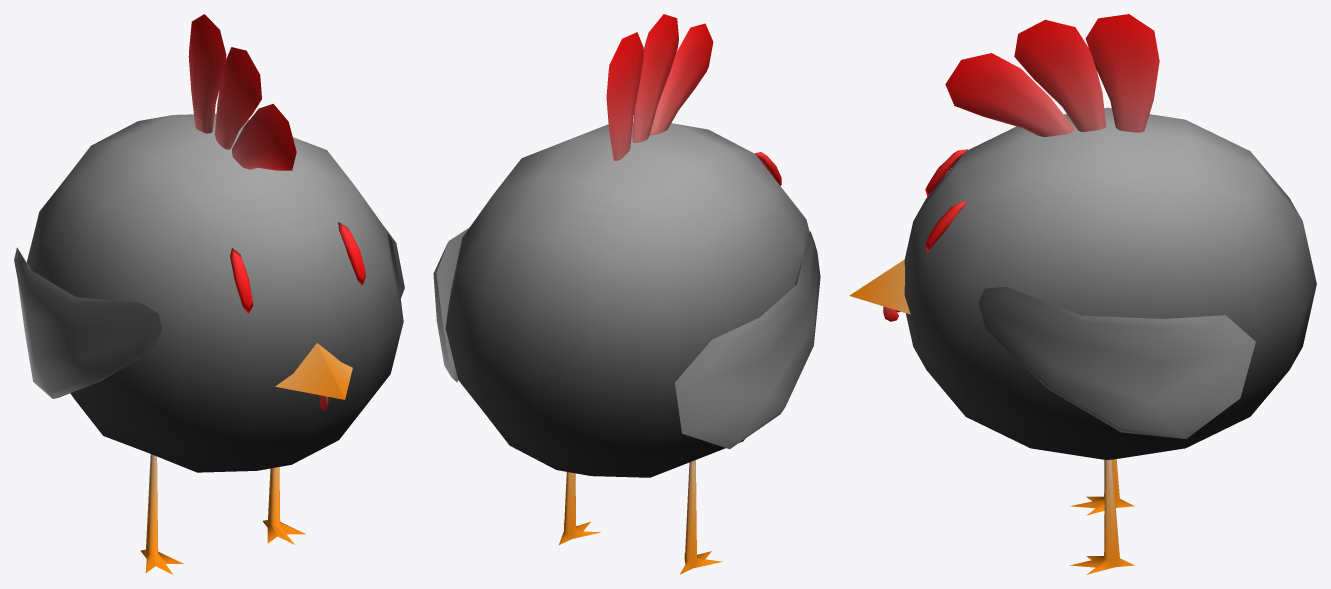
File: Gallina_Negra.FBX
3 renders of one model, left to right at view 1: azimuth 30°, elevation 25°; view 2: azimuth 150°, elevation 25°; view 3: azimuth 270°, elevation 25°, orthographic.
Parts seen in each view (by area): view 1: Gallina_Negra; view 2: Gallina_Negra; view 3: Gallina_Negra.
Part boxes in pixels (left/top/right/bottom): Gallina_Negra: left=14, top=14, right=404, bottom=574; Gallina_Negra: left=433, top=14, right=820, bottom=574; Gallina_Negra: left=849, top=14, right=1316, bottom=574.
Size of the model in its own units: 22.2 by 34.43 by 27.97.
1 material, 1 textured.
